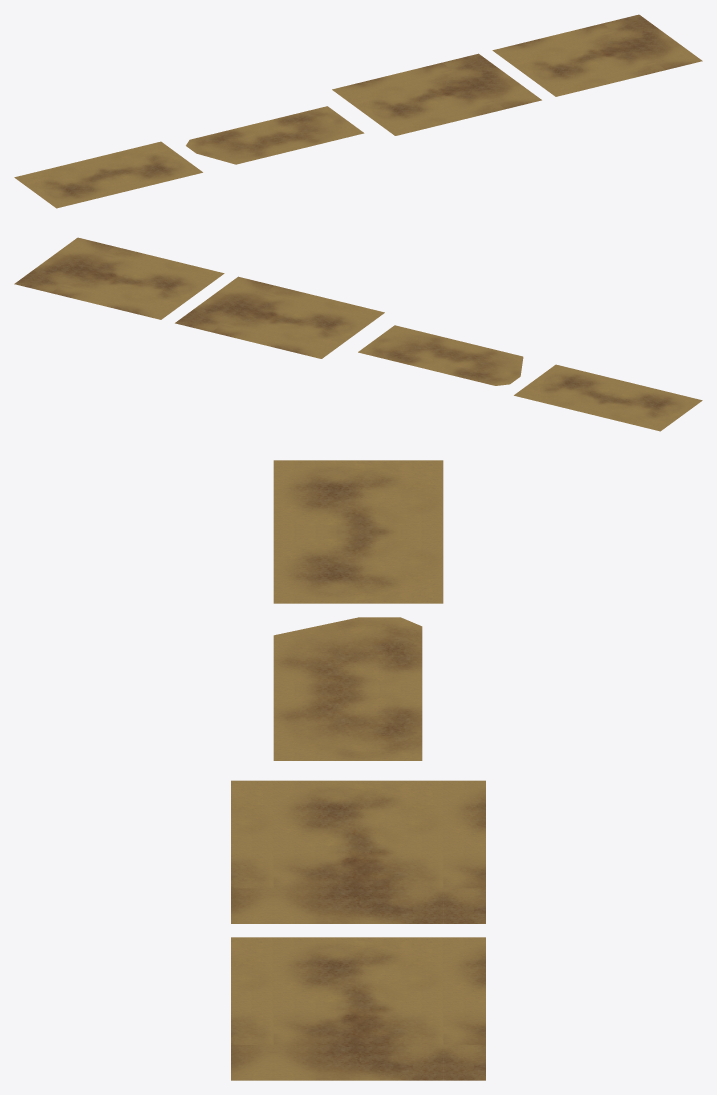
Rendered from Northern_Desert_2F_all.FBX.
3 renders of one model, top to bottom at view 1: azimuth 30°, elevation 25°; view 2: azimuth 150°, elevation 25°; view 3: azimuth 270°, elevation 25°, orthographic. The views are drawn at different scales.
Visible parts, largest first — view 1: Plane005, Plane004, Plane009, Plane008, Plane007; view 2: Plane005, Plane004, Plane009, Plane008, Plane007; view 3: Plane005, Plane004, Plane009, Plane008, Plane007.
Boxes of the visible parts, x1=… form: Plane005: x1=492, y1=14, x2=702, y2=96; Plane004: x1=332, y1=53, x2=541, y2=135; Plane009: x1=186, y1=106, x2=364, y2=164; Plane008: x1=88, y1=141, x2=202, y2=190; Plane007: x1=14, y1=159, x2=129, y2=208; Plane005: x1=14, y1=237, x2=224, y2=319; Plane004: x1=175, y1=276, x2=384, y2=358; Plane009: x1=358, y1=325, x2=523, y2=385; Plane008: x1=514, y1=364, x2=628, y2=413; Plane007: x1=587, y1=382, x2=702, y2=431; Plane005: x1=231, y1=937, x2=485, y2=1080; Plane004: x1=231, y1=780, x2=485, y2=923; Plane009: x1=273, y1=617, x2=422, y2=760; Plane008: x1=273, y1=532, x2=443, y2=603; Plane007: x1=273, y1=460, x2=443, y2=531.
Bounding box in the file's own units: 138 × 3.19e-05 × 24.
